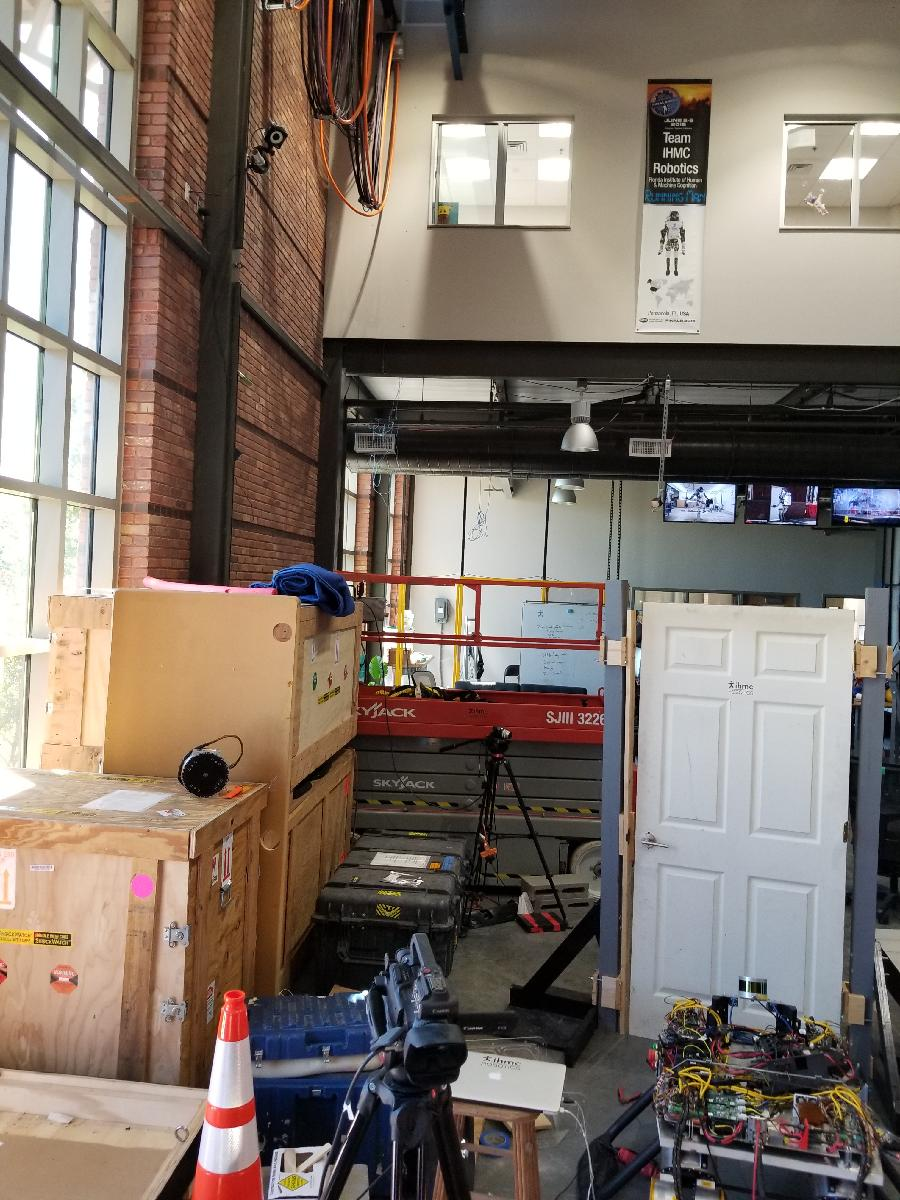door: (622, 593, 858, 1081)
doorHandle: (637, 831, 668, 858)
